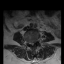CCS_stenosis: (32, 40, 33, 47)
LFS_stenosis: (35, 39, 36, 43)
LLS_severe_stenosis: (33, 40, 35, 46)
RFS_normal: (28, 40, 30, 46)
RLS_normal: (30, 40, 32, 46)
